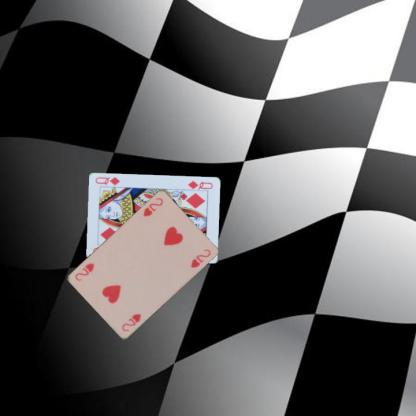2h: (140, 195, 164, 218), (119, 311, 142, 333)
Qd: (183, 178, 214, 192)
